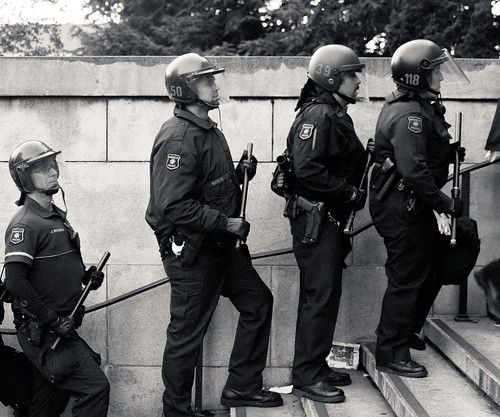policeman: (139, 42, 275, 417), (376, 40, 489, 378), (280, 42, 372, 402), (1, 132, 114, 417)
